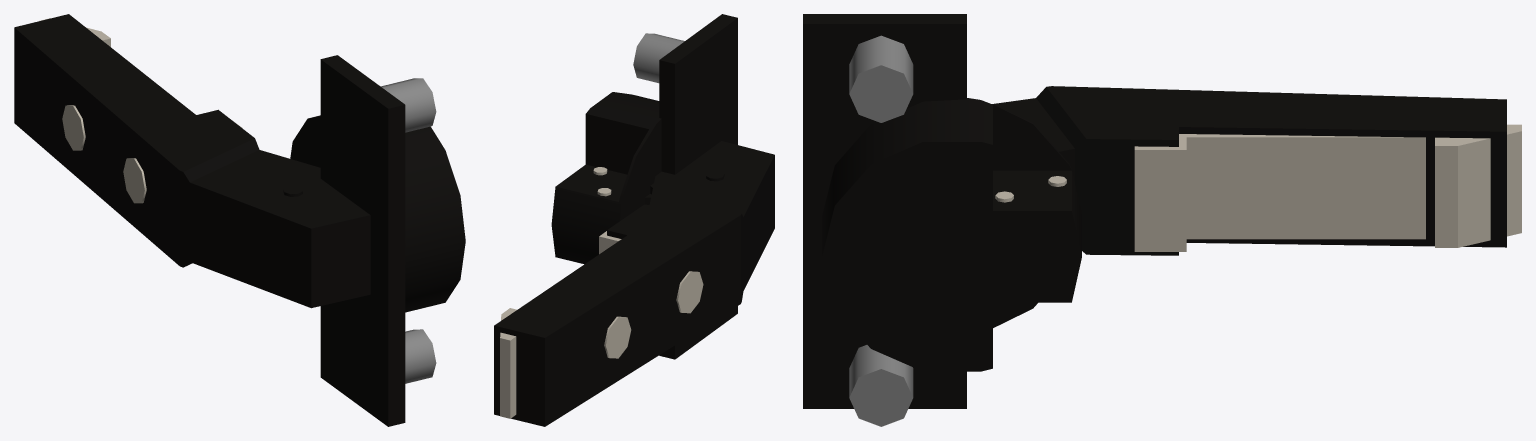
3 renders of one model, left to right at view 1: azimuth 30°, elevation 25°; view 2: azimuth 150°, elevation 25°; view 3: azimuth 270°, elevation 25°, orthographic. The views are drawn at different scales.
Parts seen in each view (by area): view 1: bau0016451269-1, bau0015166285-1; view 2: bau0016451269-1, bau0015166285-1, bau0019426112-2; view 3: bau0015166285-1, bau0019426112-2, bau0016451269-1.
Boxes of the visible parts, box(x1,y1,x2,y2) form: bau0016451269-1: box(14, 14, 370, 308); bau0015166285-1: box(290, 55, 465, 426); bau0016451269-1: box(494, 141, 774, 426); bau0015166285-1: box(551, 14, 737, 359); bau0019426112-2: box(500, 231, 621, 418); bau0015166285-1: box(803, 14, 1081, 426); bau0019426112-2: box(1134, 124, 1521, 251); bau0016451269-1: box(992, 86, 1506, 255).
Bounding box in the file's own units: 35.82 × 57 × 96.5.
